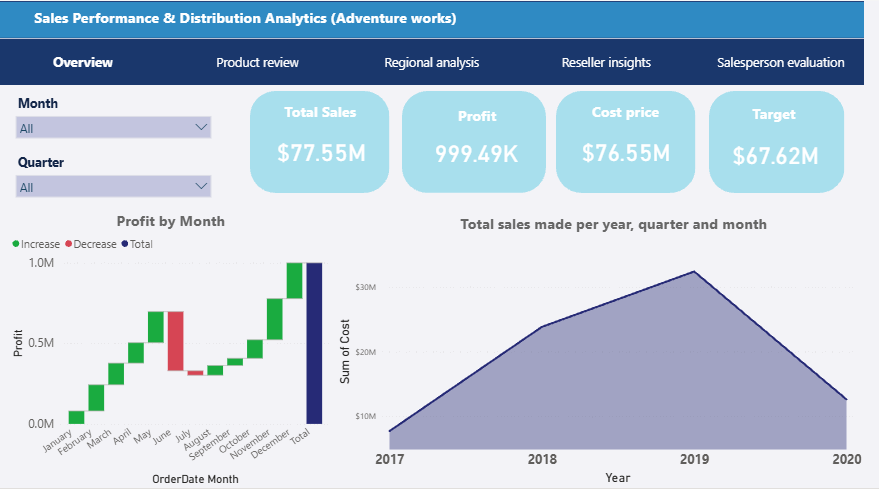

The page's visual inventory and layout, read from the dashboard file:
{"tool":"powerbi","page":{"name":"Overview","canvas":[1280,720],"ordinal":0},"visuals":[{"type":"group","id":"g1","title":"Group 1","box":[371.6,132.6,206.2,150.7],"z":0},{"type":"shape","box":[0,0,1280,55.4],"z":1000,"group":"g7"},{"type":"group","id":"g2","title":"Group 2","box":[595.8,132.6,212.8,150.6],"z":1000},{"type":"textbox","box":[36,0,658,55.7],"z":2000,"group":"g7"},{"type":"group","id":"g3","title":"Group 3","box":[823.3,132.6,206.3,150.7],"z":2000},{"type":"bookmarkNavigator","box":[0,55.9,1280,67.7],"z":3000,"group":"g7"},{"type":"group","id":"g4","title":"Group 4","box":[1049.3,133.2,200.5,150.7],"z":3000},{"type":"stackedAreaChart","fields":{"Category":["Sales.OrderDate.Variation.Date Hierarchy.Year"],"Y":["Sum(Sales.Cost)"]},"box":[495.2,360.3,784.8,359.4],"z":3000,"group":"g5"},{"type":"shape","box":[371.6,132.6,206.2,150.7],"z":4000,"group":"g1"},{"type":"group","id":"g5","title":"Group 5","box":[495.2,308.4,784.8,411.2],"z":4000},{"type":"group","id":"g6","title":"Group 6","box":[14.6,133.2,308.8,175.6],"z":5000},{"type":"cardVisual","fields":{"Data":["Sum(Sales.Sales)"]},"box":[390.1,174.9,173.5,86.3],"z":5000,"group":"g1"},{"type":"slicer","fields":{"Values":["Sales.OrderDate.Variation.Date Hierarchy.Quarter"]},"box":[14.6,221,308.8,87.8],"z":5000,"group":"g6"},{"type":"group","id":"g7","title":"Group 7","box":[0,0,1280,123.6],"z":6000},{"type":"slicer","fields":{"Values":["Sales.OrderDate.Variation.Date Hierarchy.Month"]},"box":[14.6,133.2,308.8,87.8],"z":6000,"group":"g6"},{"type":"textbox","box":[411.4,142.8,128,50.8],"z":6000,"group":"g1"},{"type":"shape","box":[595.8,132.6,212.8,150.6],"z":7000,"group":"g2"},{"type":"shape","box":[823.3,132.6,206.3,150.7],"z":7000,"group":"g3"},{"type":"waterfallChart","fields":{"Category":["Sales.OrderDate.Variation.Date Hierarchy.Month"],"Y":["Sales.Profit"]},"box":[13.7,308.4,481.5,411.2],"z":7000},{"type":"textbox","box":[864.3,142.8,122.9,45.7],"z":8000,"group":"g3"},{"type":"textbox","box":[659,148.7,95,44],"z":8000,"group":"g2"},{"type":"cardVisual","fields":{"Data":["Sum(Sales.Cost)"]},"box":[838.8,174.9,175.2,86.3],"z":9000,"group":"g3"},{"type":"textbox","box":[661.9,308.4,493.6,53.2],"z":10000,"group":"g5"},{"type":"cardVisual","fields":{"Data":["Sales.Profit"]},"box":[627.3,174.1,158.3,93.1],"z":12000,"group":"g2"},{"type":"shape","box":[1049.3,133.2,200.5,150.7],"z":15000,"group":"g4"},{"type":"textbox","box":[1091.7,146.4,112.7,43.9],"z":16000,"group":"g4"},{"type":"cardVisual","fields":{"Data":["Sum(Targets.Target_new)"]},"box":[1053.7,183,188.8,68.8],"z":17000,"group":"g4"}]}

Visuals, with their boxes in screenshot pixels (x1, y1, x2, y2), scaled from the page's 1280x720 canvas onto the 879x489 screenshot:
"Group 1" group: 255,90,397,192
shape: 0,0,878,38
"Group 2" group: 409,90,555,192
textbox: 25,0,477,38
"Group 3" group: 565,90,707,192
bookmarkNavigator: 0,38,878,84
"Group 4" group: 721,90,858,193
stackedAreaChart - Sales.OrderDate.Variation.Date Hierarchy.Year x Sum(Sales.Cost): 340,245,878,488
shape: 255,90,397,192
"Group 5" group: 340,209,878,488
"Group 6" group: 10,90,222,210
cardVisual - Sum(Sales.Sales): 268,119,387,177
slicer - Sales.OrderDate.Variation.Date Hierarchy.Quarter: 10,150,222,210
"Group 7" group: 0,0,878,84
slicer - Sales.OrderDate.Variation.Date Hierarchy.Month: 10,90,222,150
textbox: 283,97,370,131
shape: 409,90,555,192
shape: 565,90,707,192
waterfallChart - Sales.OrderDate.Variation.Date Hierarchy.Month x Sales.Profit: 9,209,340,488
textbox: 594,97,678,128
textbox: 453,101,518,131
cardVisual - Sum(Sales.Cost): 576,119,696,177
textbox: 455,209,794,246
cardVisual - Sales.Profit: 431,118,539,181
shape: 721,90,858,193
textbox: 750,99,827,129
cardVisual - Sum(Targets.Target_new): 724,124,853,171
